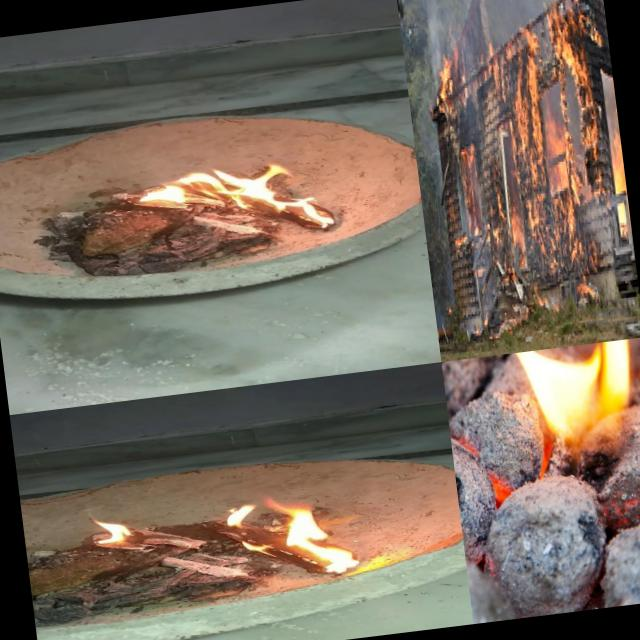fire: (79, 474, 367, 606), (134, 146, 348, 258), (502, 341, 620, 467), (548, 136, 586, 262), (600, 74, 631, 228), (522, 190, 563, 276), (520, 41, 548, 166), (504, 10, 536, 118), (606, 336, 640, 429), (549, 12, 586, 84), (456, 148, 484, 238), (428, 51, 454, 118), (482, 200, 508, 247), (508, 210, 528, 268), (488, 40, 506, 98)
smoke: (413, 0, 458, 56)
